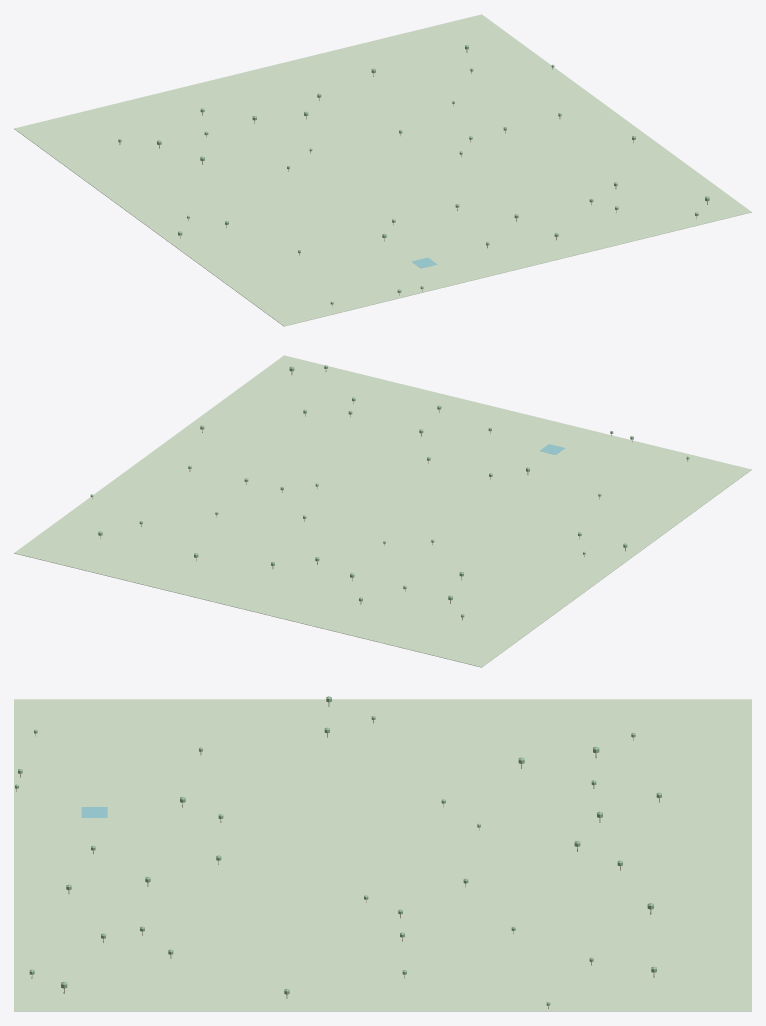
Rendered from chunk_6_6_low.glb.
The picture shows the model from 3 angles, top to bottom: view 1: azimuth 30°, elevation 25°; view 2: azimuth 150°, elevation 25°; view 3: azimuth 270°, elevation 25°; orthographic projection. The views are drawn at different scales.
Visible parts, largest first — view 1: city_grass, city_foliage_dark; view 2: city_grass, city_foliage_dark; view 3: city_grass, city_foliage_dark.
Part boxes in pixels (<box>): city_grass: <box>14,14,751,326</box>; city_foliage_dark: <box>118,45,709,304</box>; city_grass: <box>14,355,751,667</box>; city_foliage_dark: <box>90,365,689,617</box>; city_grass: <box>14,699,751,1011</box>; city_foliage_dark: <box>15,696,661,1005</box>.
Size of the model in its own units: 512 by 9.59 by 512.
